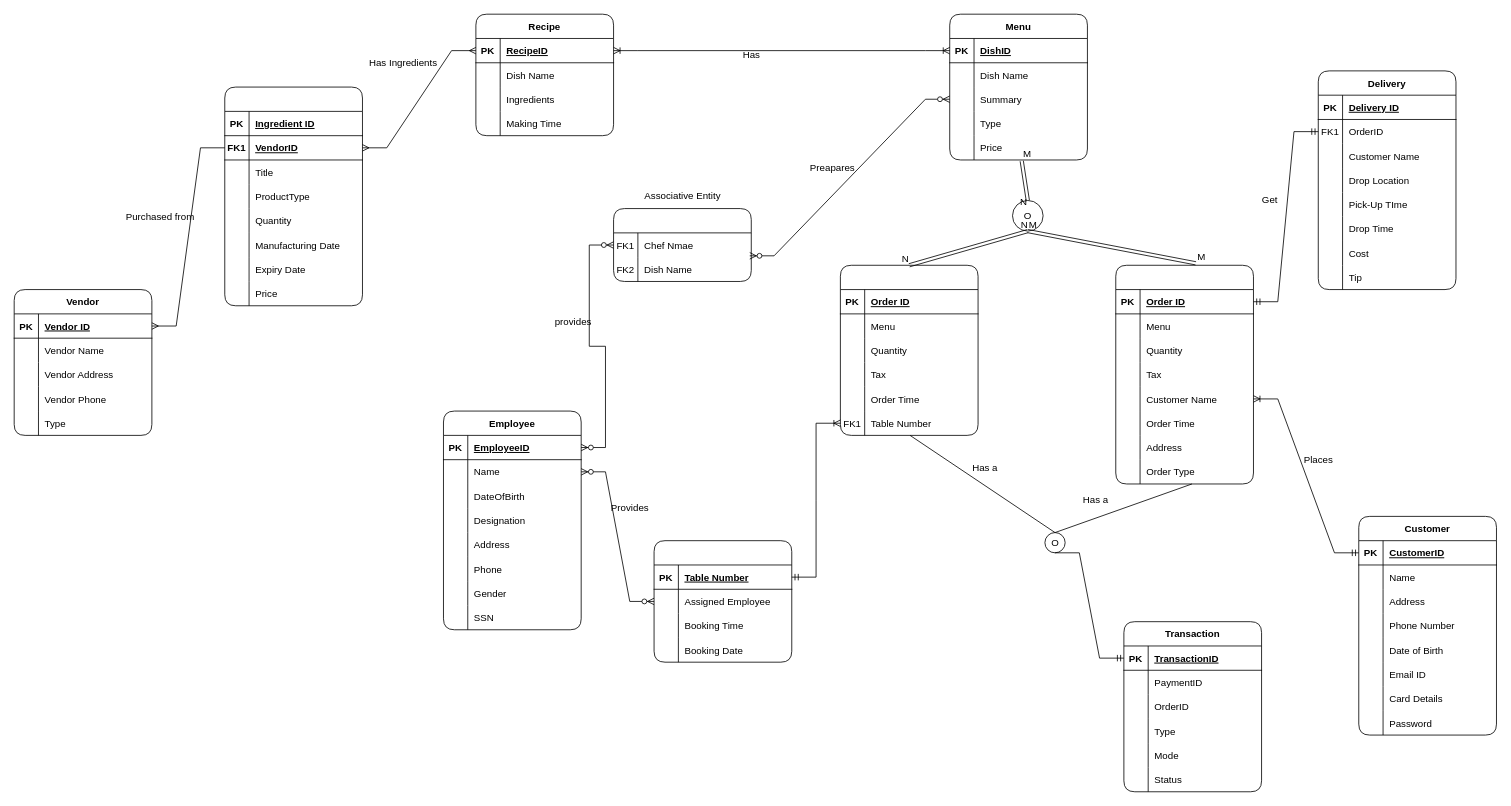
The diagram is 1511 pixels wide and 806 high, and some of its shapes have lost their labels. The box of each missing label's shape, as (x1, y1, x2, y2) in pixels:
Chef Order: (613, 208, 751, 281)
InHouse Order: (840, 264, 978, 435)
Inventory: (224, 86, 362, 306)
Online Order: (1115, 264, 1253, 484)
Table Booking: (653, 540, 792, 662)
